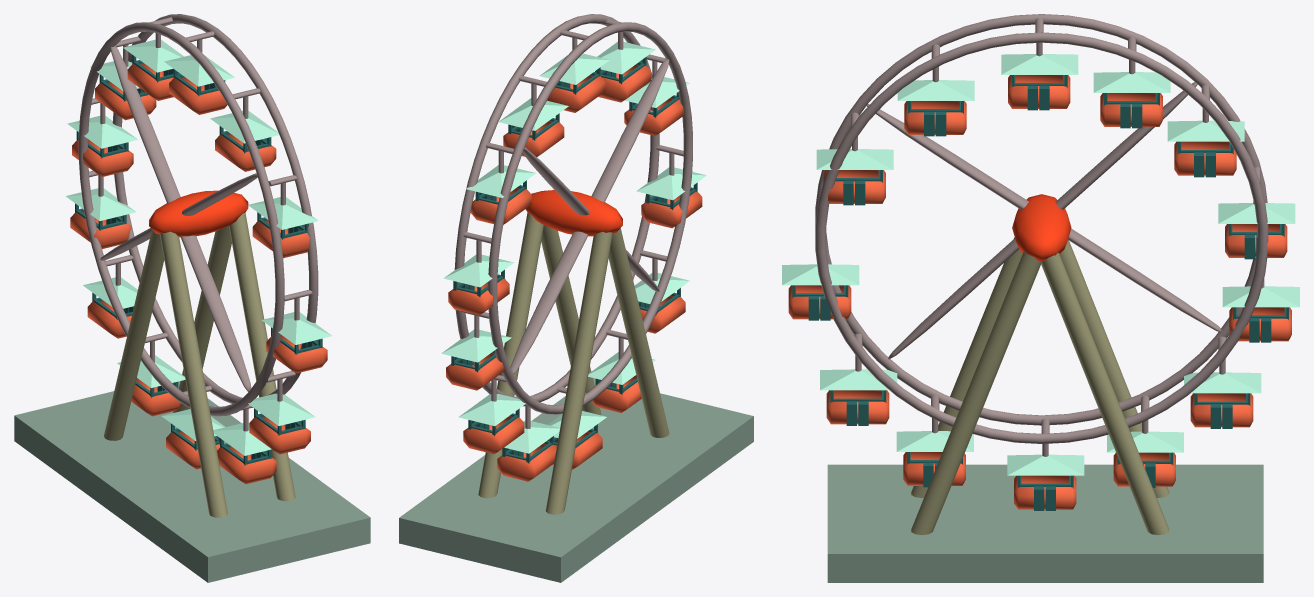
File: Rat.fbx
3 renders of one model, left to right at view 1: azimuth 30°, elevation 25°; view 2: azimuth 150°, elevation 25°; view 3: azimuth 270°, elevation 25°, orthographic. The views are drawn at different scales.
Visible parts, largest first — view 1: Cube, Torus_1, Torus, Cylinder_3, Capsule_1, Cylinder_2, Cylinder_1, Sphere, Cylinder, Cube_2_2, Cube_2, Capsule (+23 smaller); view 2: Cube, Torus_1, Torus, Cylinder_2, Capsule, Cylinder_3, Cylinder, Sphere, Cylinder_1, Capsule_1, Cube_2_11, Cube_2_12 (+24 smaller); view 3: Cube, Torus, Torus_1, Cylinder_1, Cylinder, Capsule, Capsule_1, Sphere, Cylinder_2, Cylinder_3, Pyramid_13, Pyramid_6 (+24 smaller).
Boxes of the visible parts, <box> form: Cube: <box>14,381,370,582</box>; Torus_1: <box>78,22,284,416</box>; Torus: <box>112,14,318,407</box>; Cylinder_3: <box>160,231,227,517</box>; Capsule_1: <box>110,46,251,391</box>; Cylinder_2: <box>104,230,164,440</box>; Cylinder_1: <box>229,213,295,501</box>; Sphere: <box>149,190,248,237</box>; Cylinder: <box>173,226,231,412</box>; Cube_2_2: <box>249,416,310,454</box>; Cube_2: <box>217,446,276,484</box>; Capsule: <box>100,173,257,260</box>; Cube: <box>399,378,753,582</box>; Torus_1: <box>488,22,692,414</box>; Torus: <box>454,14,659,406</box>; Cylinder_2: <box>546,231,612,514</box>; Capsule: <box>510,59,669,374</box>; Cylinder_3: <box>608,228,669,437</box>; Cylinder: <box>478,212,543,498</box>; Sphere: <box>525,190,622,236</box>; Cylinder_1: <box>541,225,601,415</box>; Capsule_1: <box>523,147,659,292</box>; Cube_2_11: <box>463,416,524,454</box>; Cube_2_12: <box>497,443,556,481</box>; Cube: <box>827,464,1263,582</box>; Torus: <box>815,32,1268,443</box>; Torus_1: <box>815,14,1268,425</box>; Cylinder_1: <box>911,251,1040,534</box>; Cylinder: <box>1041,253,1169,535</box>; Capsule: <box>866,104,1221,332</box>; Capsule_1: <box>888,82,1197,359</box>; Sphere: <box>1012,194,1071,261</box>; Cylinder_2: <box>1059,240,1169,497</box>; Cylinder_3: <box>911,237,1022,497</box>; Pyramid_13: <box>1007,454,1084,475</box>; Pyramid_6: <box>1001,54,1078,74</box>.
Bounding box in the file's own units: 2117 × 5720 × 5188.
